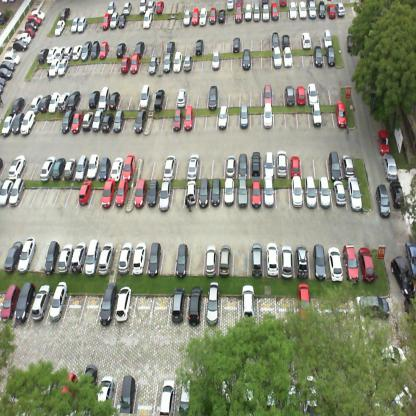car: (390, 253, 416, 298), (385, 384, 412, 416), (28, 288, 51, 324), (46, 290, 69, 326), (0, 281, 20, 322), (359, 295, 390, 321), (18, 235, 38, 275), (96, 288, 118, 324), (376, 346, 406, 372), (354, 240, 374, 277), (96, 374, 114, 415), (114, 289, 136, 322), (158, 376, 176, 416), (168, 291, 189, 325), (13, 289, 36, 320), (82, 361, 98, 405), (145, 240, 165, 275), (120, 374, 137, 415), (324, 242, 342, 280), (202, 293, 221, 329), (60, 370, 78, 408), (41, 239, 60, 273), (68, 240, 87, 274), (4, 238, 23, 272), (178, 376, 194, 416), (76, 176, 94, 210), (144, 177, 162, 211), (293, 243, 311, 277), (53, 241, 72, 273), (240, 284, 256, 322), (187, 292, 204, 327), (82, 240, 100, 273), (340, 241, 356, 278), (278, 244, 295, 278), (310, 242, 326, 278), (174, 243, 191, 276), (303, 375, 317, 415), (374, 183, 390, 218), (297, 283, 311, 323), (203, 241, 218, 278), (263, 243, 279, 277), (344, 176, 362, 206), (113, 177, 129, 210), (156, 178, 172, 211), (132, 240, 148, 273), (217, 242, 233, 275), (100, 178, 116, 210), (96, 244, 113, 274), (248, 240, 263, 274), (316, 177, 332, 208), (118, 242, 134, 272), (133, 177, 146, 212), (73, 154, 91, 179), (341, 149, 357, 177), (8, 178, 24, 206), (84, 153, 101, 179), (40, 155, 57, 181), (330, 179, 345, 208), (389, 181, 404, 210), (382, 152, 397, 181), (197, 179, 211, 210), (288, 180, 304, 207), (9, 154, 26, 179), (288, 147, 302, 177), (235, 179, 249, 209), (262, 178, 276, 208), (90, 106, 106, 132), (96, 154, 112, 180), (328, 148, 342, 177), (209, 180, 223, 209), (276, 148, 289, 179), (304, 178, 317, 209), (122, 155, 138, 180), (101, 107, 115, 135), (112, 107, 126, 135), (332, 101, 347, 127), (186, 152, 201, 178), (0, 180, 15, 206), (109, 155, 125, 179), (248, 150, 262, 177), (376, 127, 390, 154), (51, 156, 66, 181), (184, 179, 196, 210), (406, 239, 415, 280), (133, 108, 147, 134), (263, 147, 275, 177), (249, 179, 261, 209), (62, 156, 77, 180), (20, 112, 36, 134), (164, 152, 178, 177), (224, 179, 236, 208), (224, 150, 236, 178), (71, 109, 84, 134), (60, 111, 74, 134), (48, 92, 62, 114), (238, 105, 250, 130), (237, 152, 249, 177), (138, 84, 150, 109), (206, 84, 218, 109), (311, 102, 322, 128), (97, 87, 110, 109), (262, 105, 274, 128), (57, 91, 70, 112), (184, 106, 194, 133), (216, 107, 227, 131), (1, 116, 13, 138), (153, 90, 165, 112), (174, 108, 184, 134), (12, 112, 24, 133), (66, 92, 80, 110), (48, 58, 61, 77), (284, 84, 295, 106), (307, 82, 318, 104), (81, 110, 93, 130), (172, 50, 182, 74), (11, 96, 25, 113), (3, 50, 20, 64), (242, 48, 252, 71), (37, 46, 49, 65), (53, 20, 66, 37), (176, 88, 187, 108), (263, 84, 273, 106), (326, 45, 336, 67), (272, 48, 282, 70), (211, 49, 221, 71), (162, 52, 172, 74), (148, 53, 158, 75), (183, 5, 193, 27), (81, 38, 91, 60), (39, 95, 51, 113), (71, 43, 83, 61), (313, 45, 323, 66), (130, 52, 140, 73), (90, 38, 100, 59), (47, 45, 58, 64), (58, 57, 69, 76), (31, 93, 43, 110), (108, 91, 120, 108), (288, 0, 298, 20), (234, 1, 242, 26), (198, 6, 208, 26), (142, 10, 152, 30), (120, 54, 130, 74), (99, 40, 109, 60), (88, 89, 99, 107), (296, 84, 305, 106), (109, 12, 120, 30), (12, 38, 28, 50), (301, 31, 311, 50), (191, 5, 200, 26), (69, 16, 80, 33), (0, 67, 13, 81), (283, 48, 292, 68), (208, 6, 218, 24), (101, 12, 111, 30), (323, 28, 332, 47), (183, 53, 192, 72), (194, 37, 204, 54), (298, 0, 308, 17), (28, 13, 41, 26), (31, 9, 45, 21), (2, 60, 16, 72), (59, 4, 70, 19), (117, 13, 127, 29), (77, 16, 87, 32), (116, 40, 126, 56), (232, 36, 241, 53), (262, 3, 270, 22), (138, 0, 148, 15), (328, 0, 336, 18), (271, 30, 280, 46), (218, 8, 226, 26), (56, 43, 65, 59), (336, 2, 346, 16), (309, 0, 316, 20), (272, 1, 279, 21), (244, 0, 251, 20), (154, 1, 164, 15), (25, 20, 39, 30), (254, 0, 260, 23), (167, 38, 176, 53), (318, 0, 325, 19), (24, 26, 35, 38), (18, 32, 31, 42), (64, 45, 74, 57), (135, 42, 145, 53), (123, 1, 132, 13), (107, 1, 116, 13), (282, 32, 289, 47), (148, 0, 156, 11), (227, 0, 234, 12)
